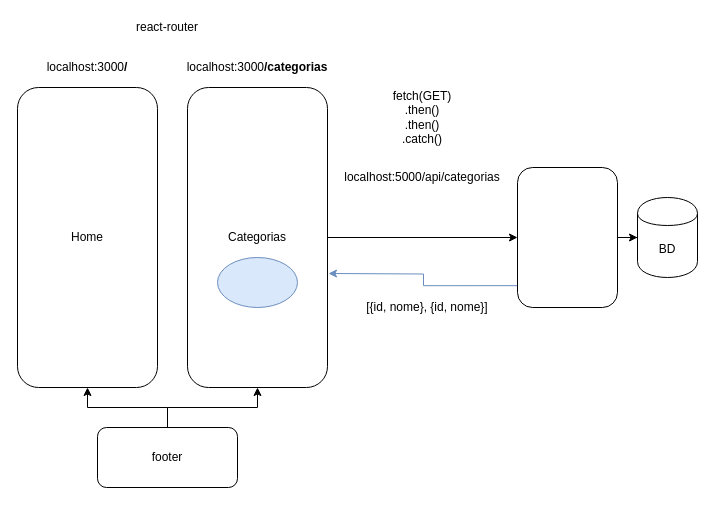
The diagram is 715 pixels wide and 505 high, and some of its shapes have lost their labels. The box of each missing label's shape, as (x1, y1, x2, y2) in pixels:
BackEnd: (516, 166, 618, 308)
state: (216, 256, 298, 308)
